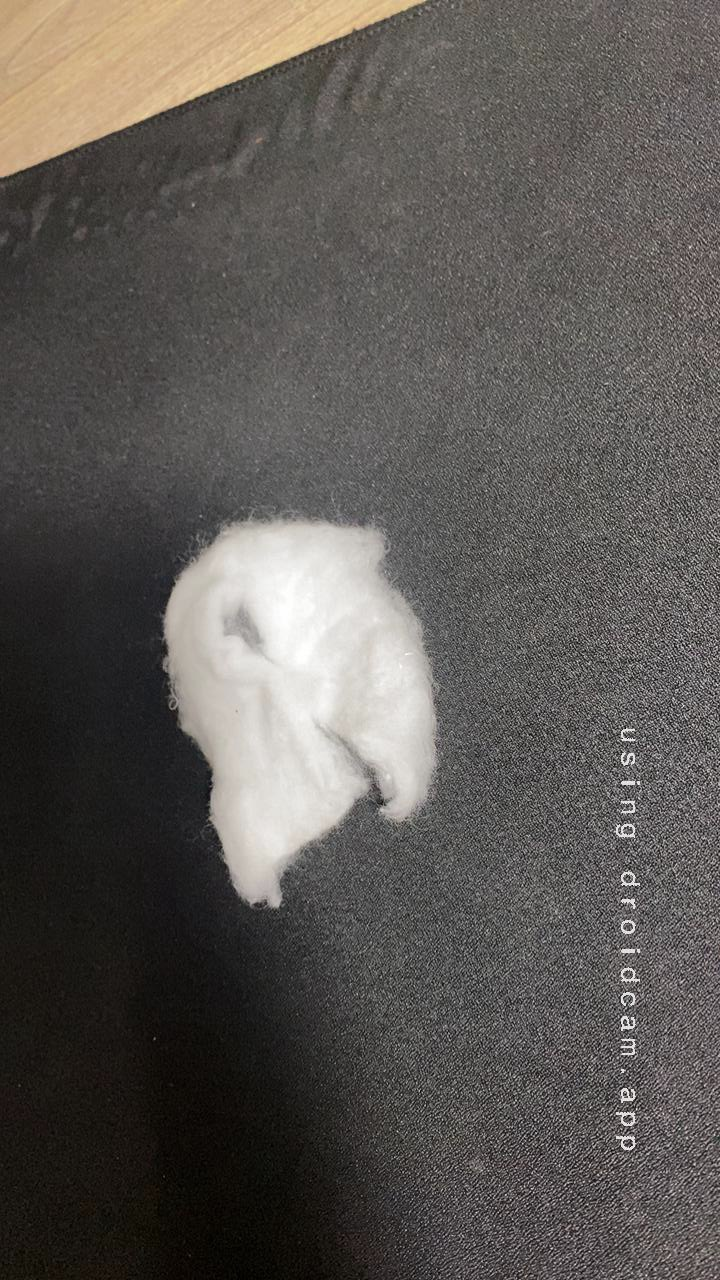cotton: (114, 500, 477, 914)
